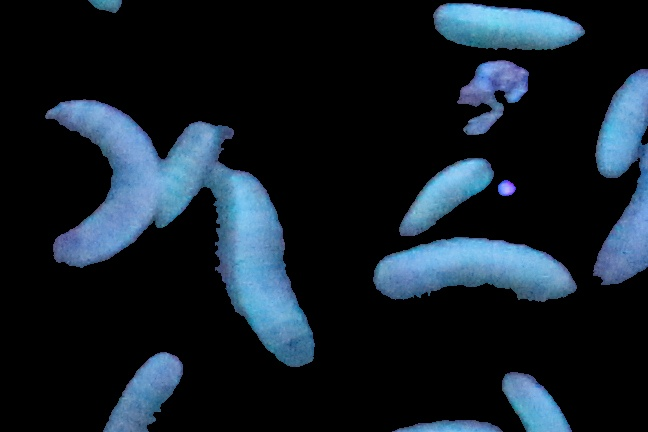larvae: (206, 164, 315, 367), (46, 98, 157, 272), (376, 239, 576, 302), (593, 147, 648, 286), (430, 1, 587, 49), (397, 160, 494, 232), (159, 121, 226, 224), (103, 352, 185, 432), (594, 70, 648, 180), (499, 371, 568, 432)
